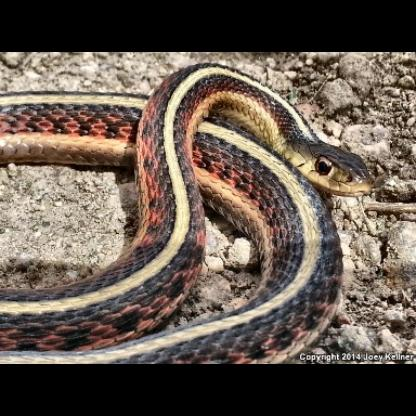Snake: (0, 63, 378, 348)
